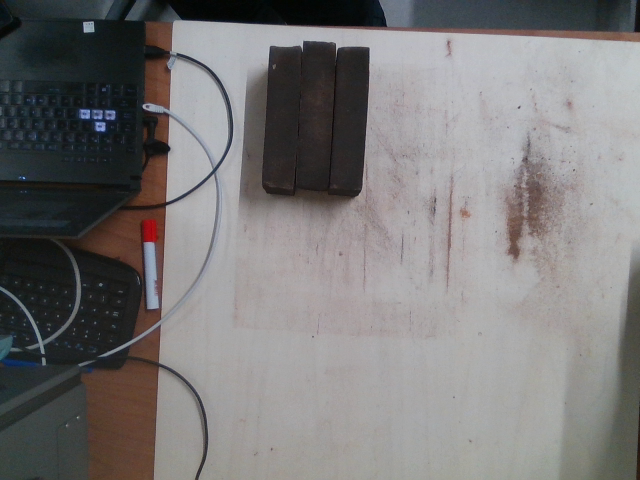brick-side: (261, 44, 302, 185), (330, 46, 370, 187), (296, 42, 336, 183)
